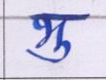u_matra: (27, 38, 74, 63)
